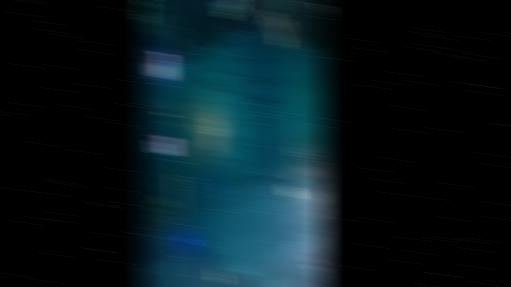Fish: (264, 9, 289, 50), (231, 184, 246, 211), (219, 0, 240, 18), (301, 152, 316, 176), (287, 159, 304, 180), (290, 137, 307, 157), (245, 74, 258, 90), (241, 178, 253, 195), (265, 184, 276, 200), (313, 267, 324, 283), (281, 187, 298, 197), (215, 191, 228, 201), (305, 255, 318, 264), (206, 67, 219, 76), (264, 190, 275, 200), (211, 185, 224, 193), (258, 176, 281, 180), (203, 78, 216, 85), (226, 89, 239, 96), (320, 3, 327, 15), (254, 97, 275, 101), (216, 184, 229, 190), (233, 103, 243, 110), (211, 85, 222, 91), (257, 184, 268, 190), (204, 93, 217, 97), (216, 69, 227, 73), (216, 89, 227, 93), (232, 77, 237, 85), (227, 68, 231, 76), (225, 85, 236, 87), (143, 268, 147, 272)
